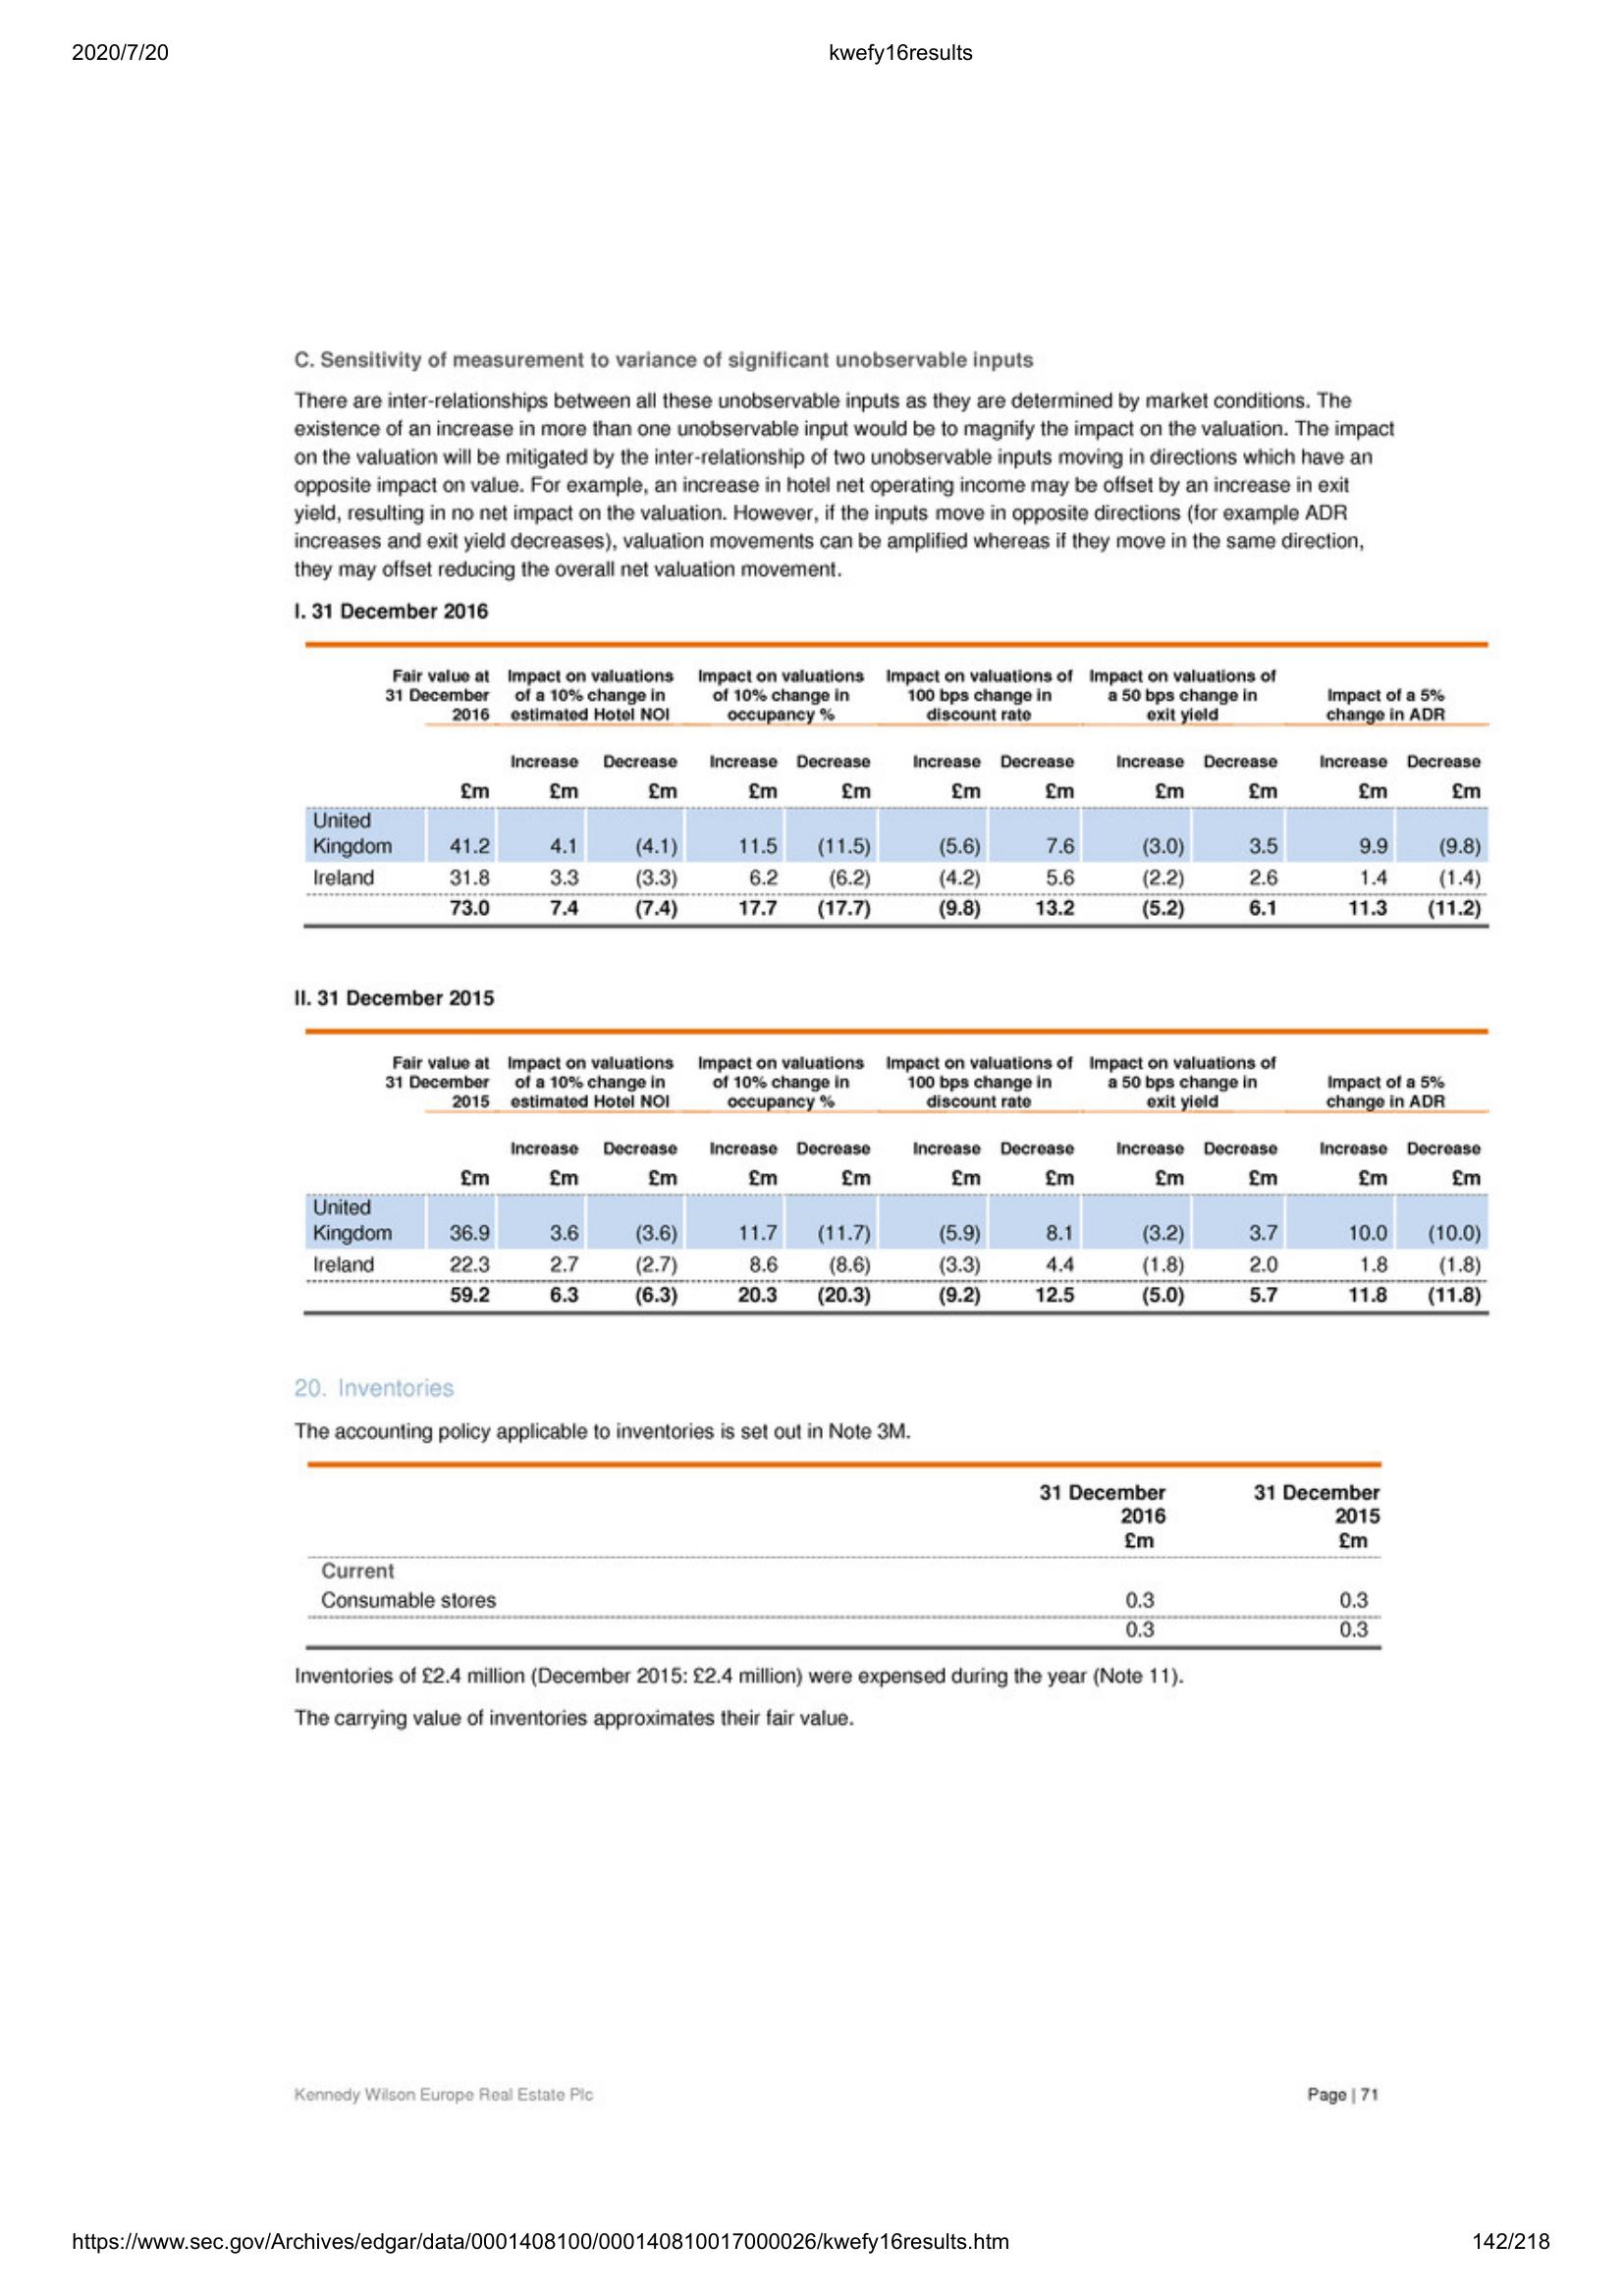table: (295, 1023, 1498, 1329), (297, 637, 1493, 936), (295, 1452, 1391, 1659)
